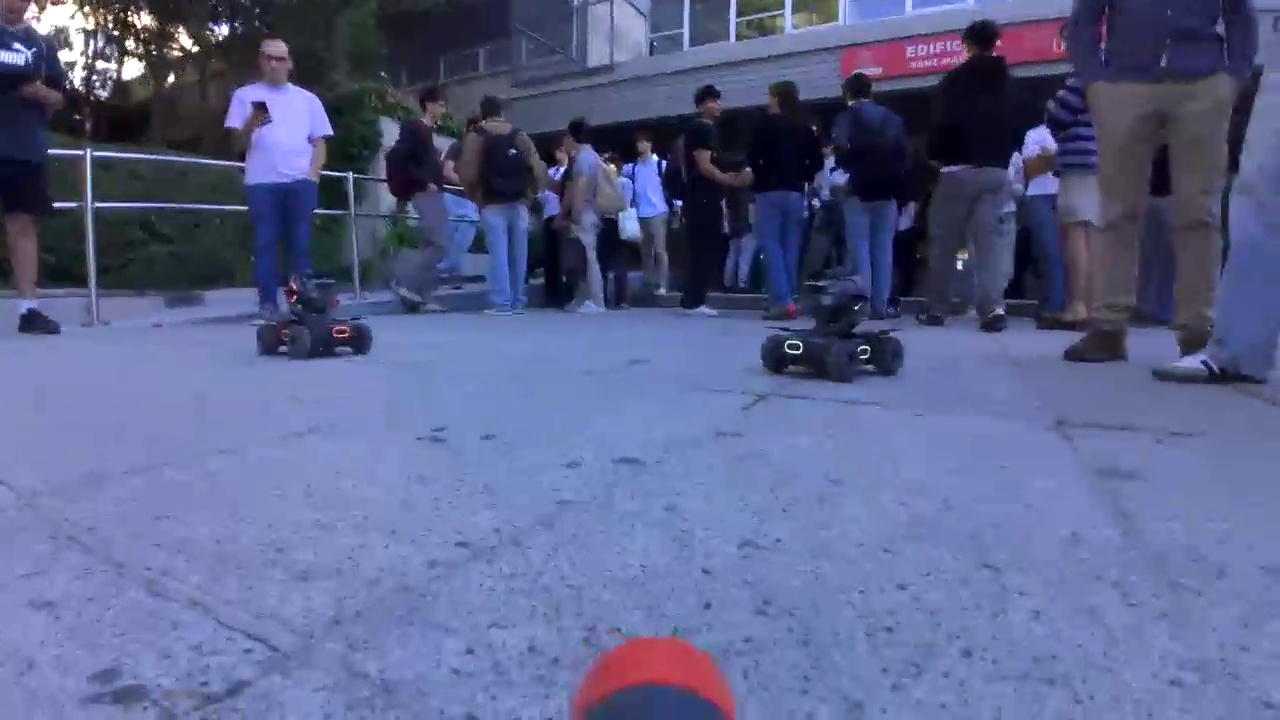robot: (760, 263, 906, 385), (256, 270, 374, 361)
